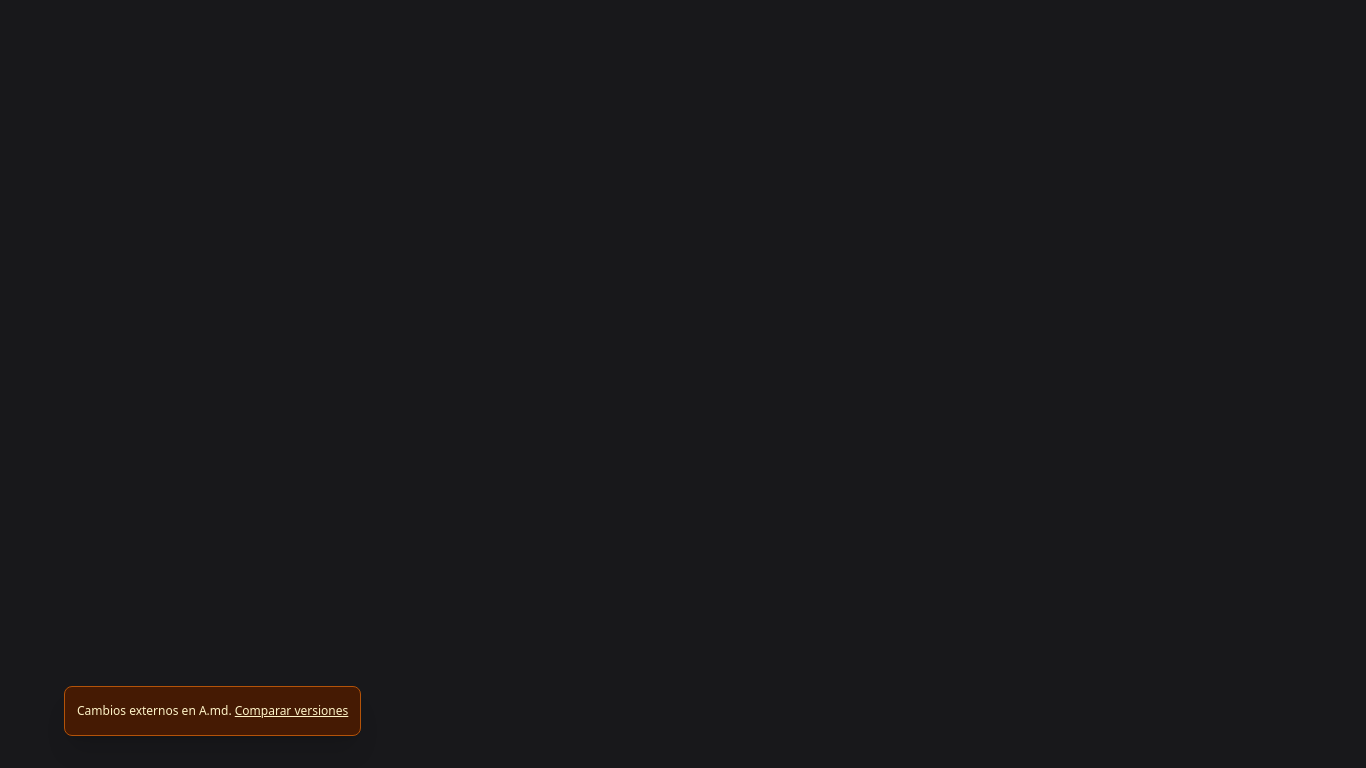
Test case: Daily workspace interaction › compares conflicting versions and saves the reviewed proposal against the external base
Later steps or results of the test are not shown.
Click the button "Comparar versiones".
click(292, 711)  # box x1=235 y1=703 x2=348 y2=719
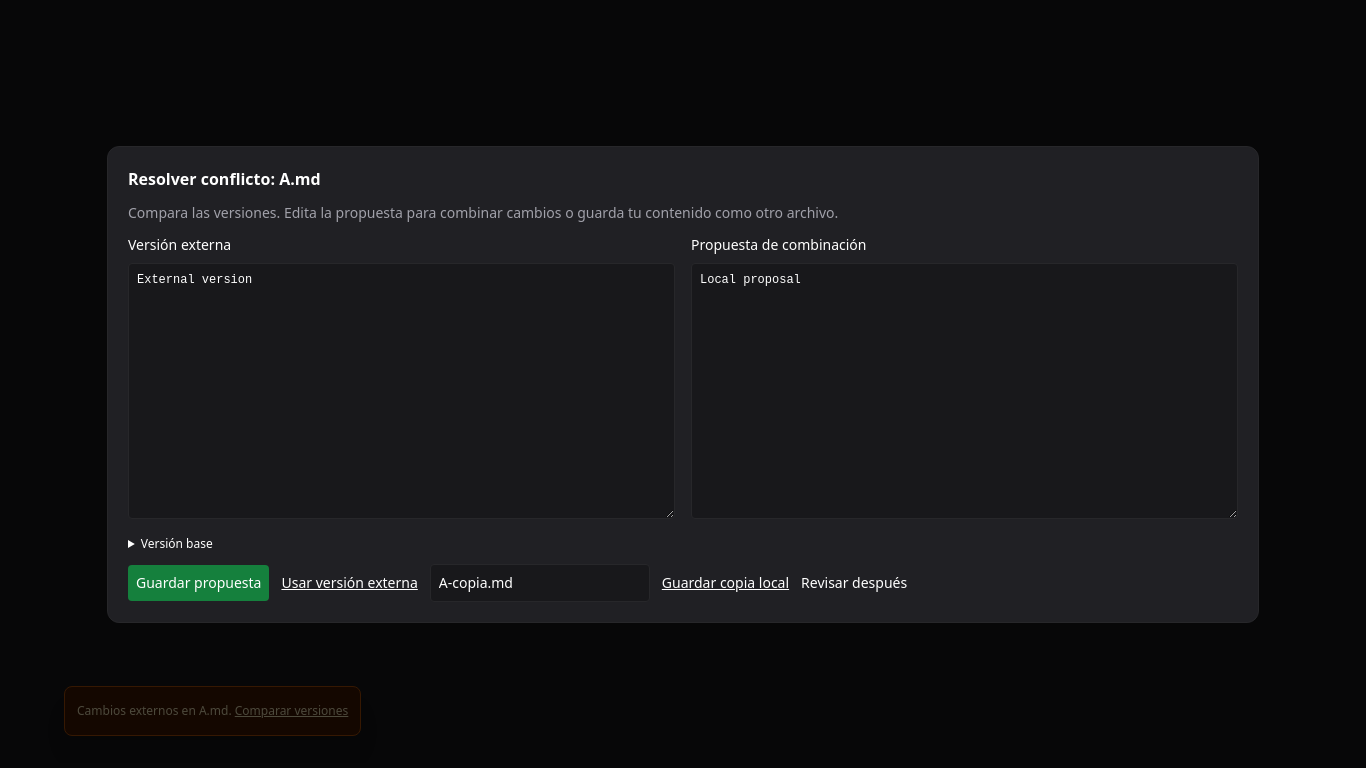
Expected: the text box named "Versión externa" holds "External version", x1=128 y1=262 x2=675 y2=518
Expected: the text box named "Propuesta de combinación" holds "Local proposal", x1=691 y1=262 x2=1238 y2=518
Expected: the button "Guardar propuesta" is shown, x1=128 y1=564 x2=270 y2=600
